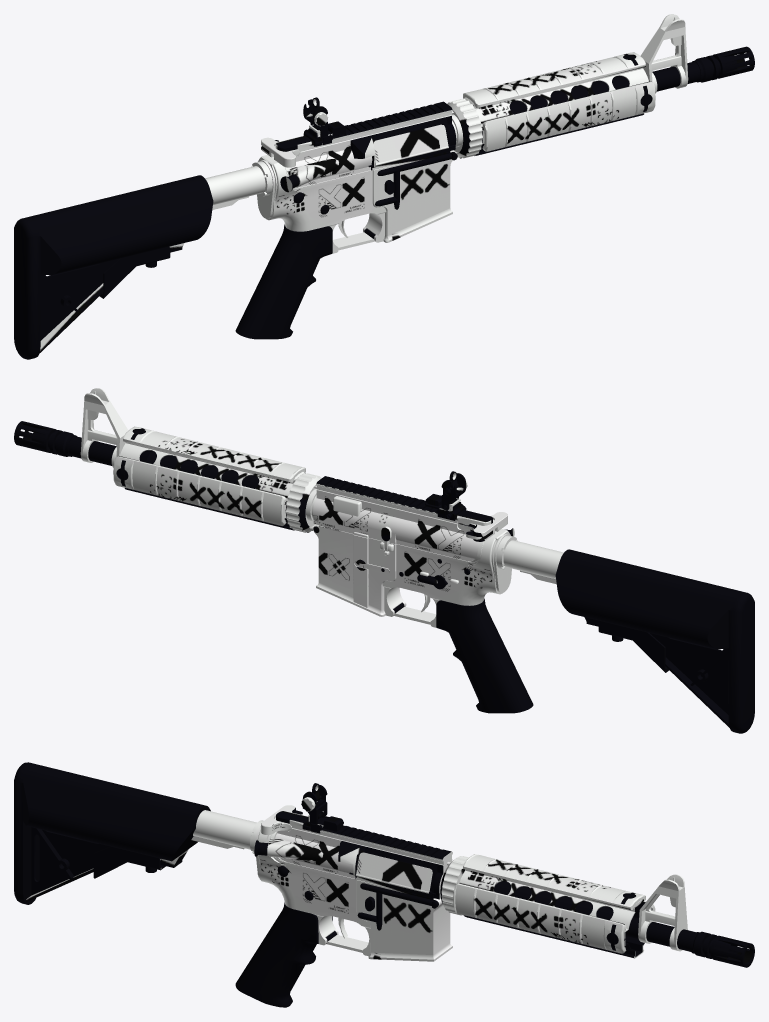
File: Carbinerifle_w.glb
The picture shows the model from 3 angles, top to bottom: view 1: azimuth 30°, elevation 25°; view 2: azimuth 150°, elevation 25°; view 3: azimuth 330°, elevation 25°; orthographic projection.
Visible parts, largest first — view 1: Gun_Root; view 2: Gun_Root; view 3: Gun_Root.
Part boxes in pixels (box(x1,y1,x2,y2)): Gun_Root: box(14, 14, 754, 359); Gun_Root: box(14, 388, 754, 733); Gun_Root: box(14, 762, 754, 1007).
Bounding box in the file's own units: 0.7249 × 0.2179 × 0.0623.
1 material, 1 textured.
